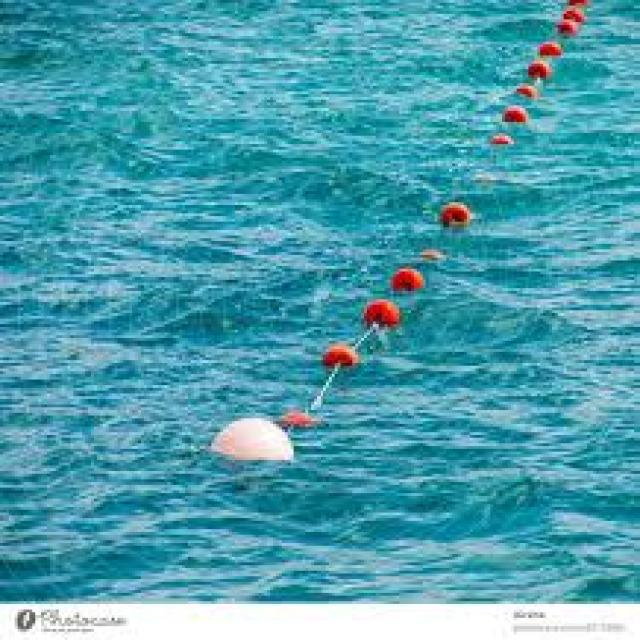buoy: (207, 391, 301, 486), (320, 344, 369, 376), (353, 301, 399, 333), (433, 206, 472, 234), (388, 262, 424, 291)
